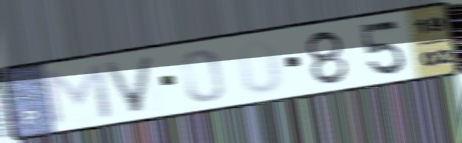0: (235, 38, 285, 96), (179, 47, 227, 104)
5: (357, 19, 408, 77)
8: (303, 29, 350, 86)
M: (37, 60, 116, 127)
V: (98, 53, 159, 116)
